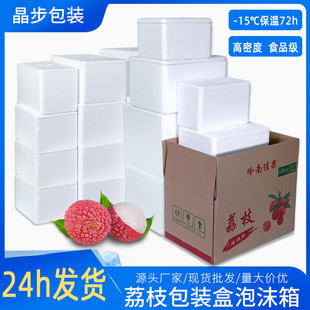泡沫箱: (15, 18, 268, 235)
